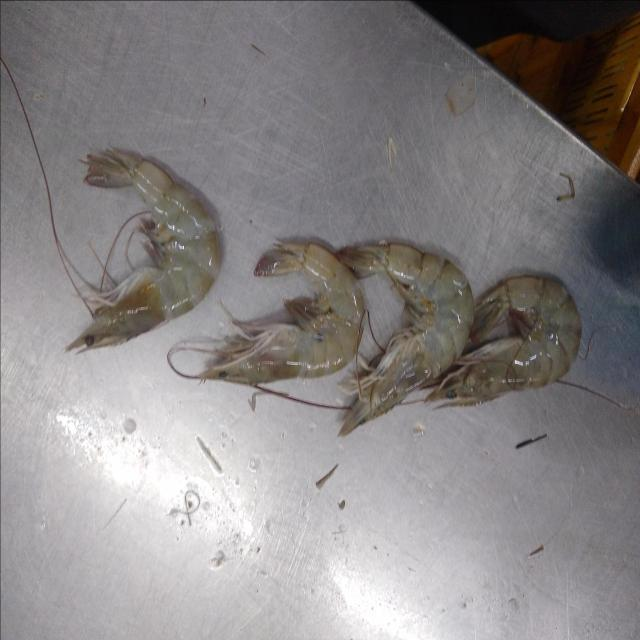shrimp: (65, 150, 218, 352), (338, 243, 474, 437), (198, 242, 365, 385), (426, 276, 582, 407)
